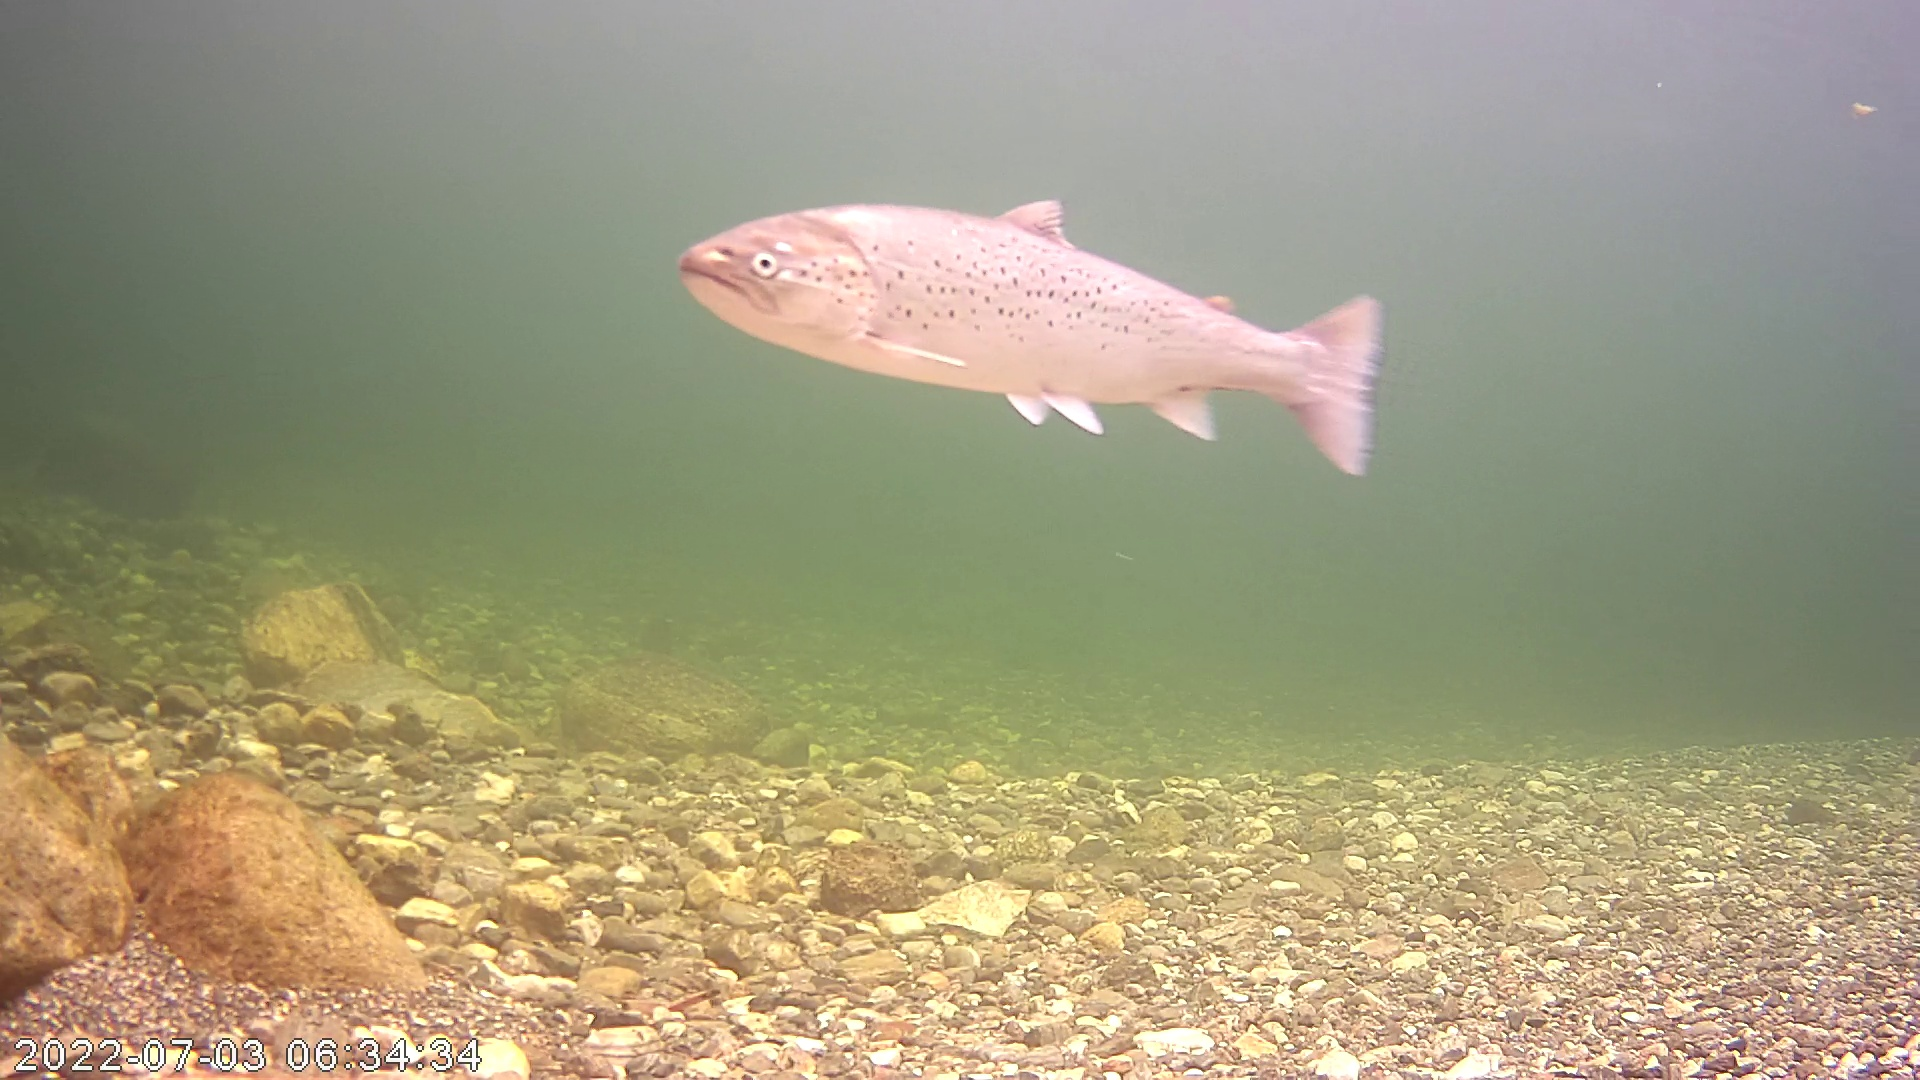salmon: (675, 195, 1385, 479)
